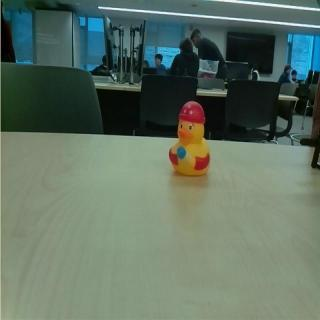duck_specialty: (168, 100, 213, 179)
